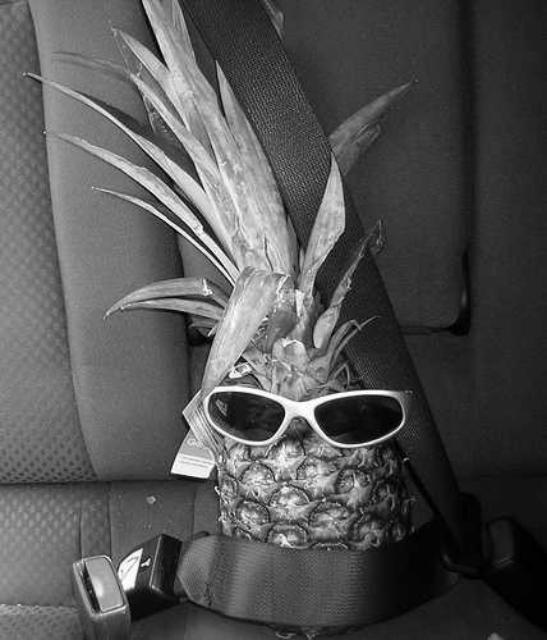Seatbelt: (142, 1, 464, 634)
